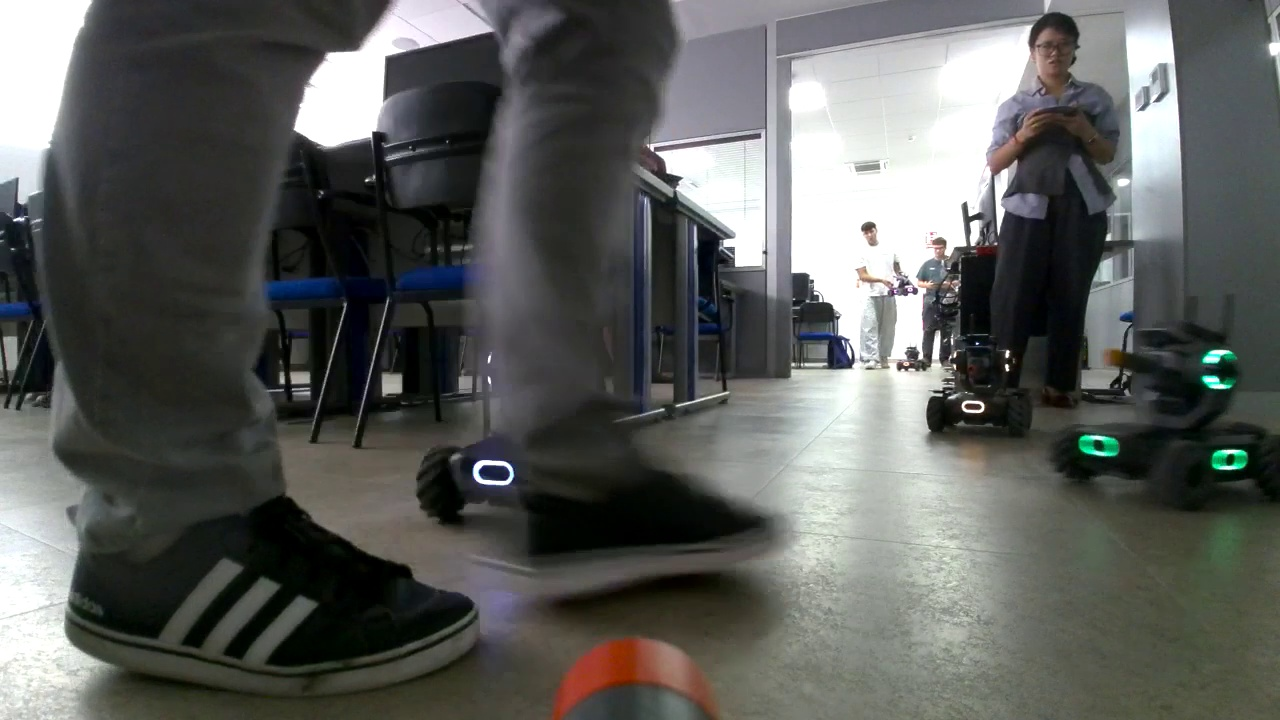robot: (1051, 290, 1280, 512), (419, 350, 632, 523), (928, 337, 1031, 430), (896, 339, 930, 370), (888, 272, 918, 295)
